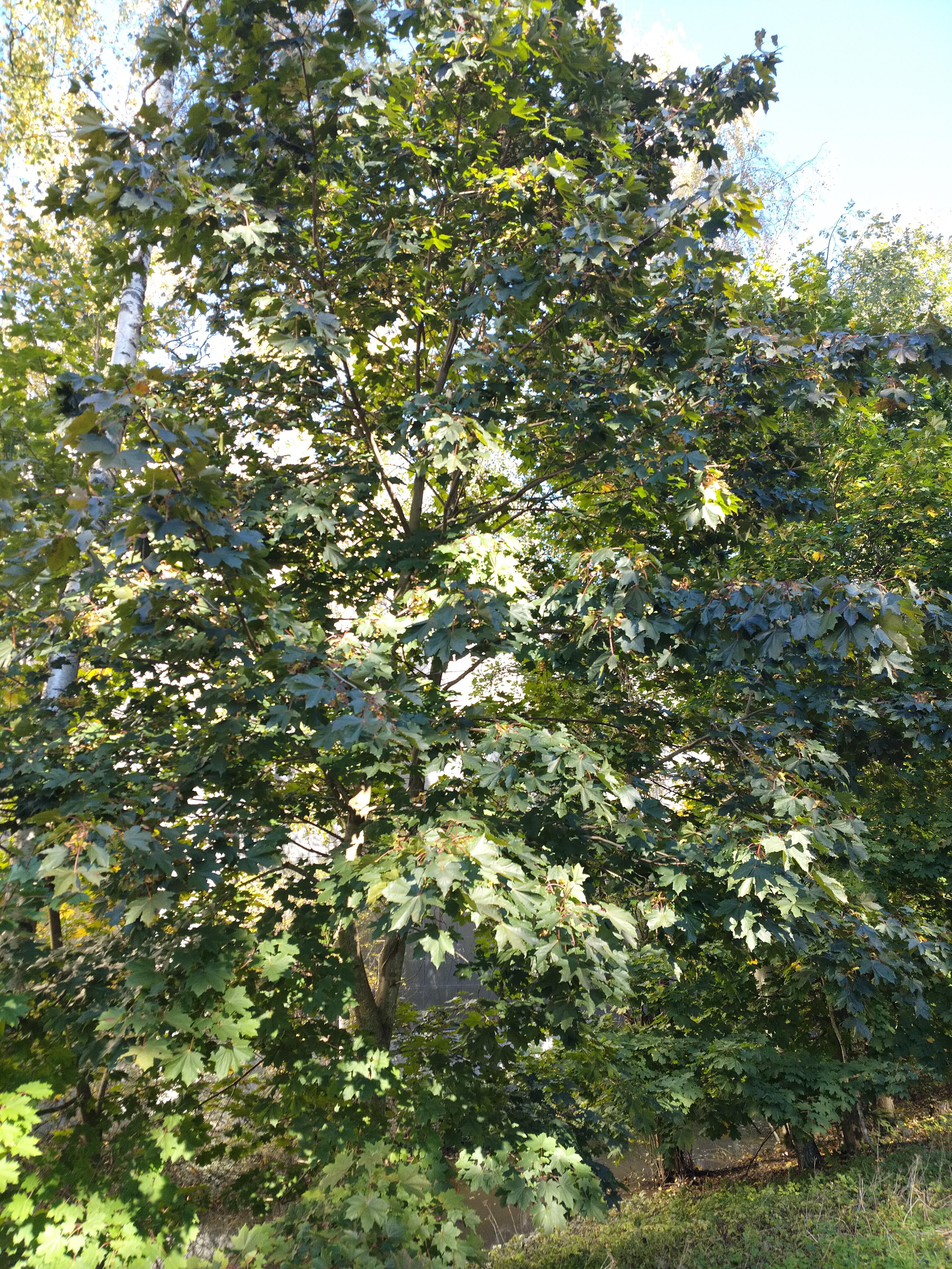Maple: (76, 1, 707, 1164), (95, 3, 787, 635)
